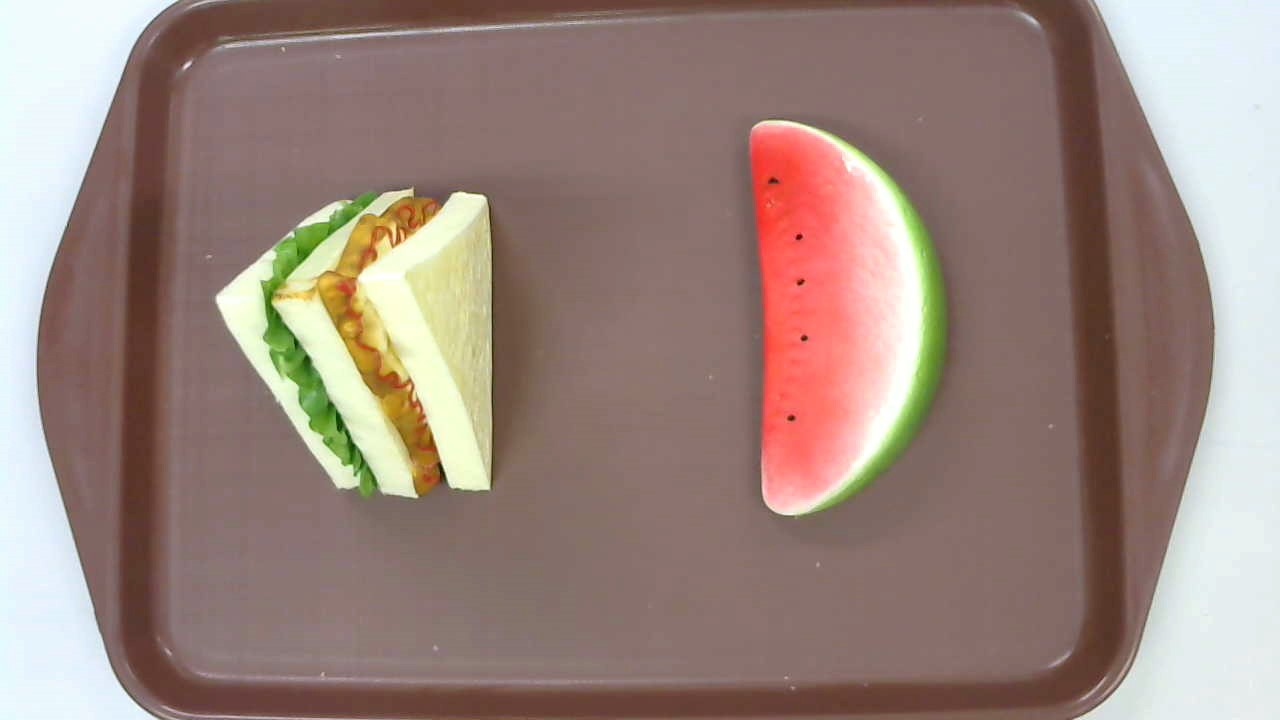sandwich: (215, 187, 495, 499)
water melon: (748, 120, 948, 516)
